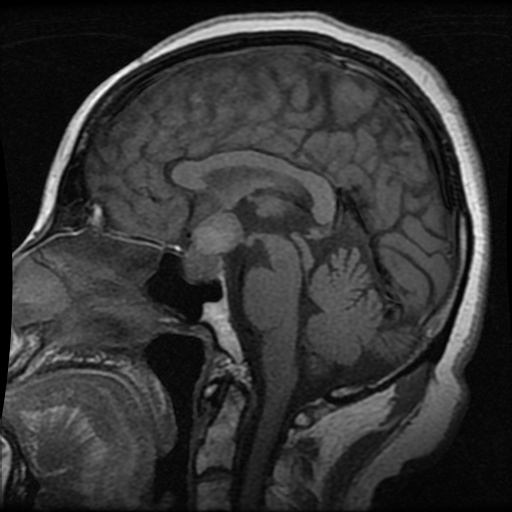pituitary: (185, 213, 244, 283)
